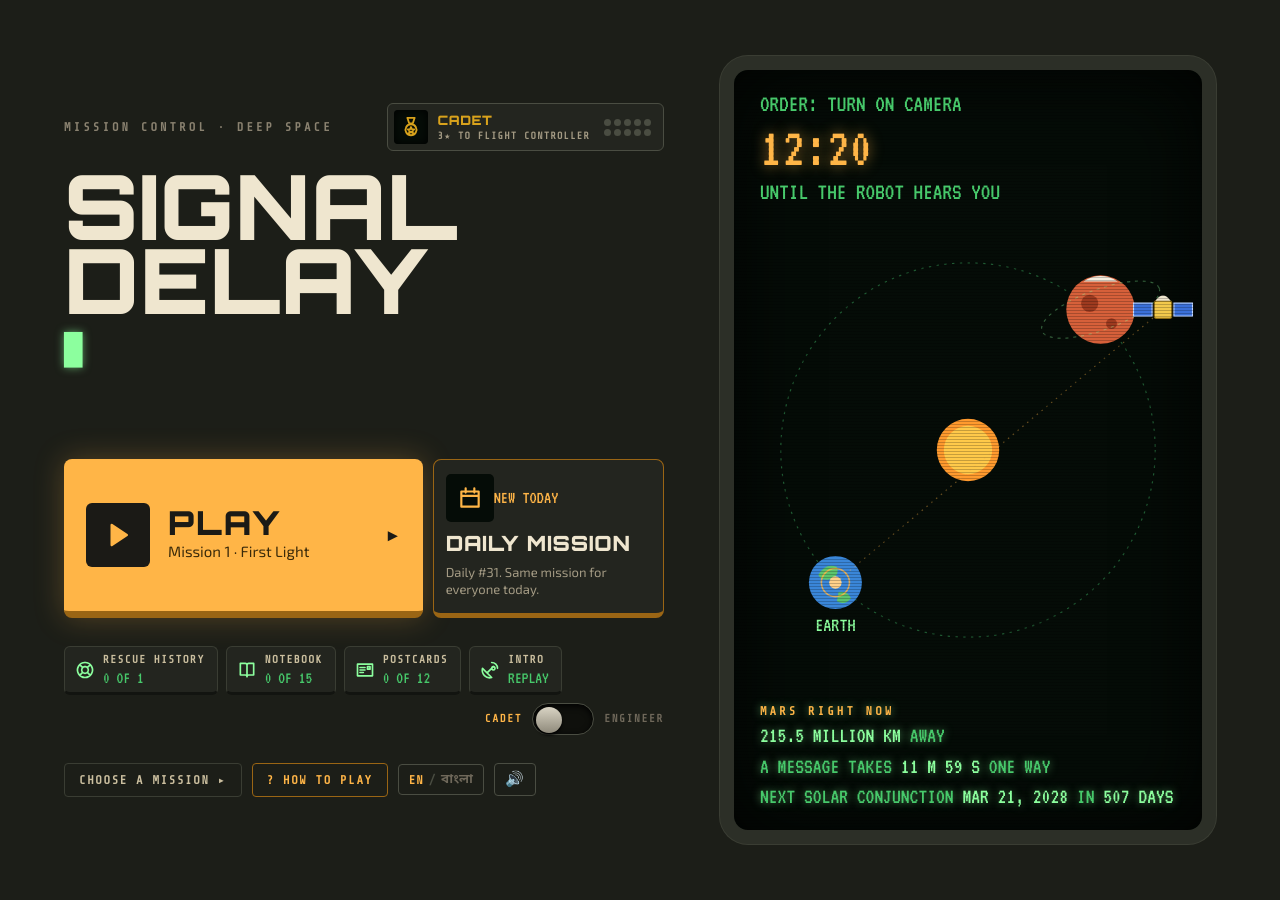
Scenario: Rescue History and the levels in Bangla (spec UI rule 48) › a level title stays English; in Bangla a subtitle says what the level teaches
The image size is (1280, 900).
Expected: the button with class "hm-play" shows "First Light", [64,459,423,618]
Click the button "EN / বাংলা" at (441, 780), box [398,764,484,795]
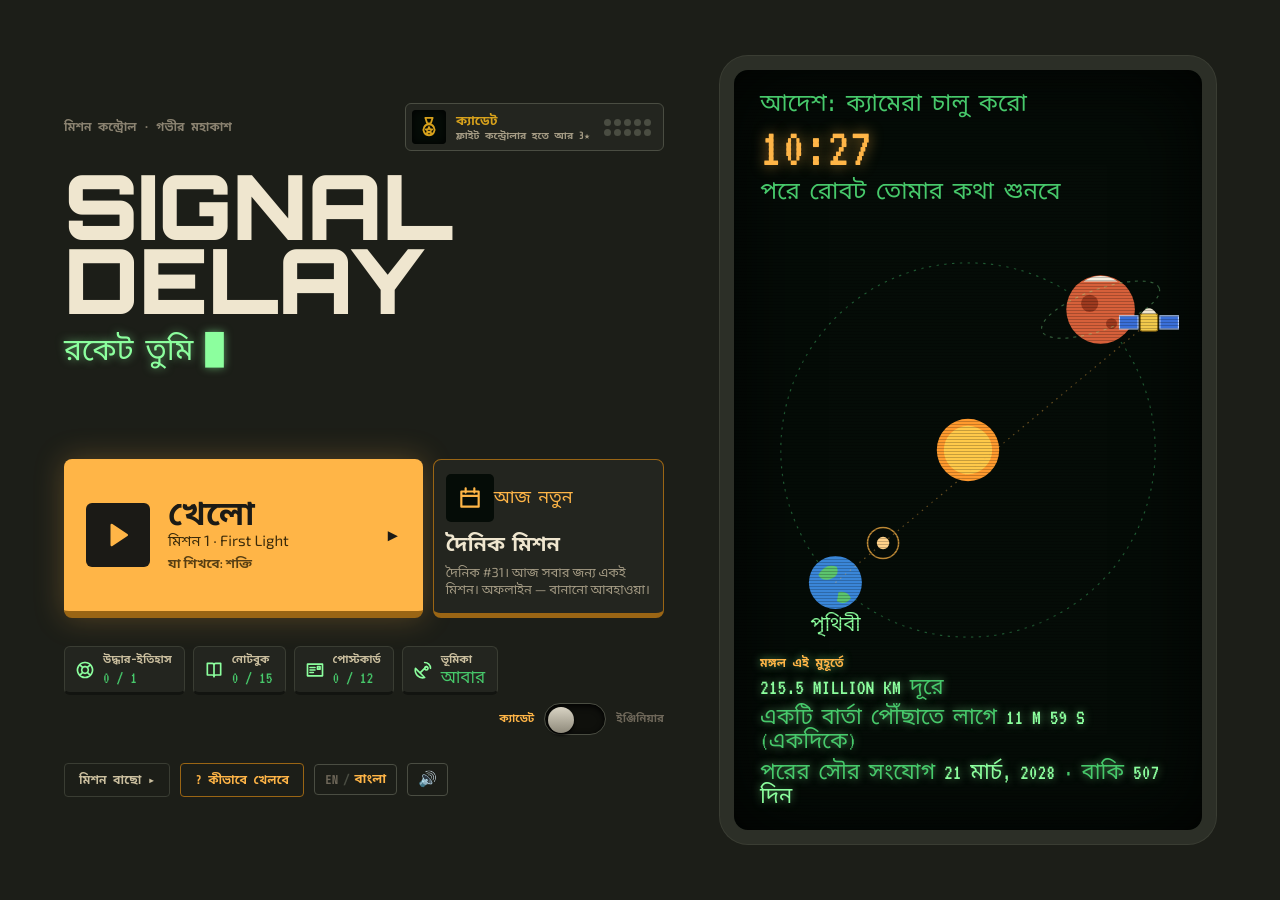
Expected: the button with class "hm-play" shows "First Light", [64,459,423,618]
Expected: the text with class "hm-play-teach" reads "যা শিখবে: শক্তি", [168,555,252,571]
